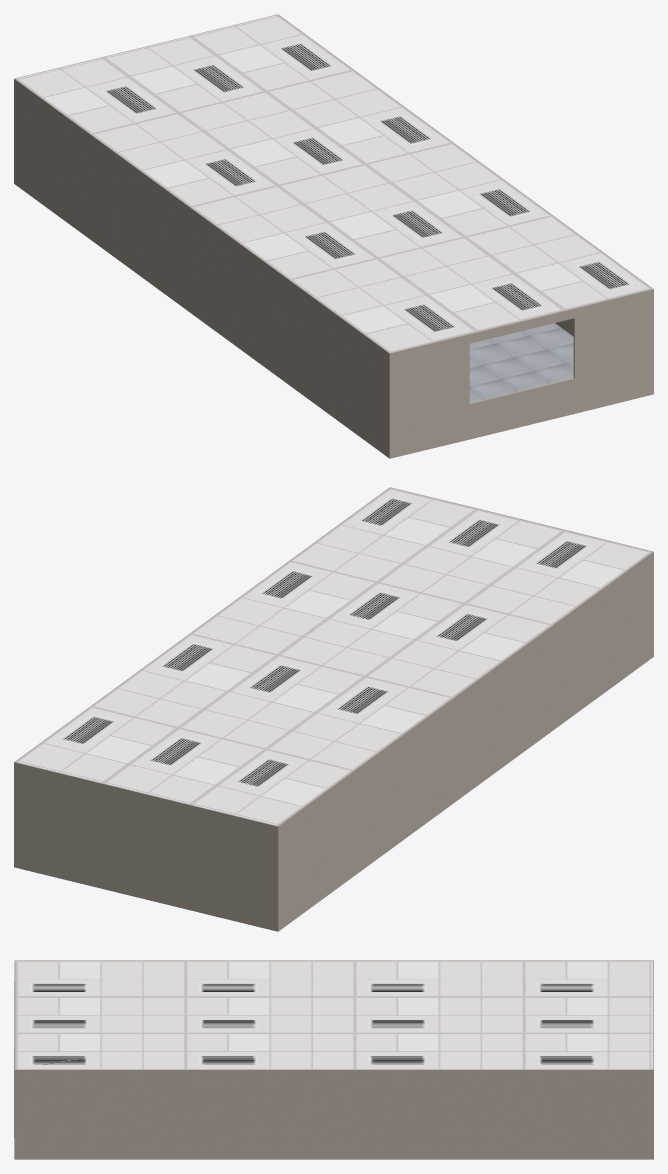
The model's file is Lab_nuevas_paredes_lobby.fbx.
3 renders of one model, top to bottom at view 1: azimuth 30°, elevation 25°; view 2: azimuth 150°, elevation 25°; view 3: azimuth 270°, elevation 25°, orthographic. The views are drawn at different scales.
Visible parts, largest first — view 1: Techo, Paredes, Piso; view 2: Techo, Paredes; view 3: Techo, Paredes.
Part boxes in pixels (x1,y1,x2,y2): Techo: (16,15,651,352); Paredes: (14,14,653,458); Piso: (469,323,573,403); Techo: (16,488,651,825); Paredes: (14,487,653,931); Techo: (15,961,652,1069); Paredes: (14,960,653,1159).
Bounding box in the file's own units: 789 × 300 × 1944.
Materials: 9 (4 with a texture image).
